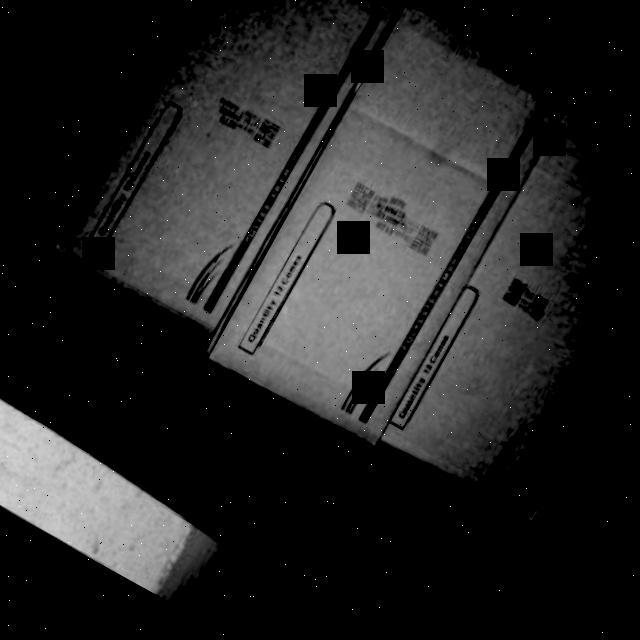box: (203, 0, 580, 452), (50, 0, 408, 340), (379, 102, 640, 532)
